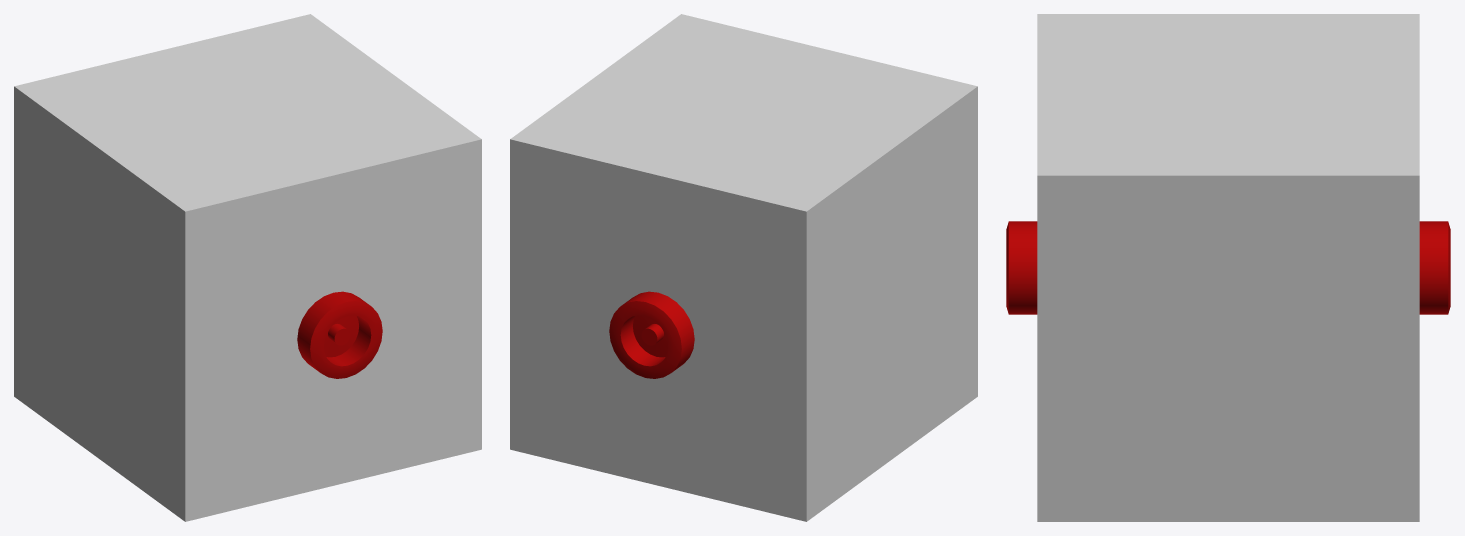
Rendered from LowVoltageBridge.gltf.
The picture shows the model from 3 angles, left to right: view 1: azimuth 30°, elevation 25°; view 2: azimuth 150°, elevation 25°; view 3: azimuth 270°, elevation 25°; orthographic projection. The views are drawn at different scales.
Visible parts, largest first — view 1: body; view 2: body; view 3: body.
Part boxes in pixels (x1=…): body: x1=14, y1=14, x2=481, y2=521; body: x1=510, y1=14, x2=977, y2=521; body: x1=1006, y1=14, x2=1450, y2=521.
Bounding box in the file's own units: 0.25 × 0.25 × 0.2908.
